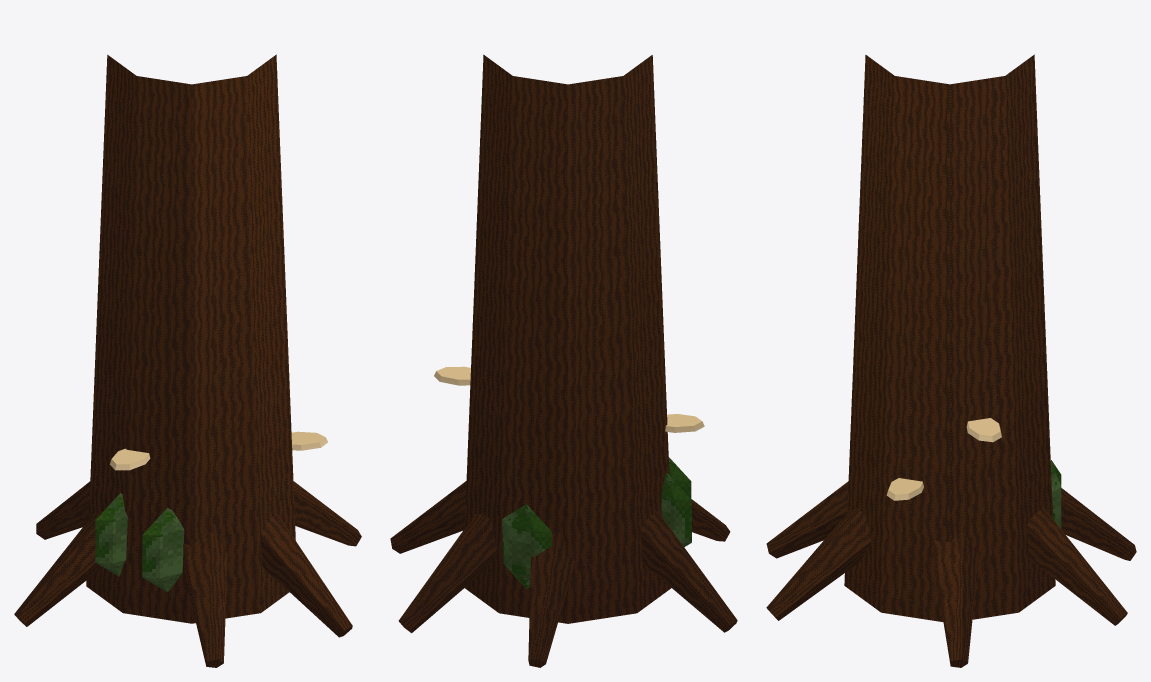
File: giant_trunk.glb
3 renders of one model, left to right at view 1: azimuth 30°, elevation 25°; view 2: azimuth 150°, elevation 25°; view 3: azimuth 270°, elevation 25°, orthographic.
Visible parts, largest first — view 1: giant_trunk; view 2: giant_trunk; view 3: giant_trunk.
Boxes of the visible parts, x1=… form: giant_trunk: x1=14, y1=54, x2=361, y2=667; giant_trunk: x1=390, y1=54, x2=737, y2=667; giant_trunk: x1=766, y1=54, x2=1136, y2=667.
Bounding box in the file's own units: 8.3 × 12.49 × 7.75.
3 materials, 2 textured.
